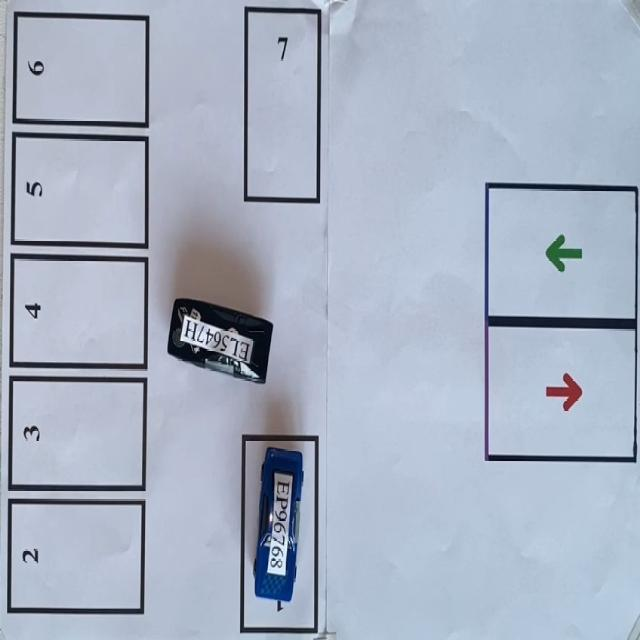car: (168, 299, 272, 381), (254, 447, 303, 609)
